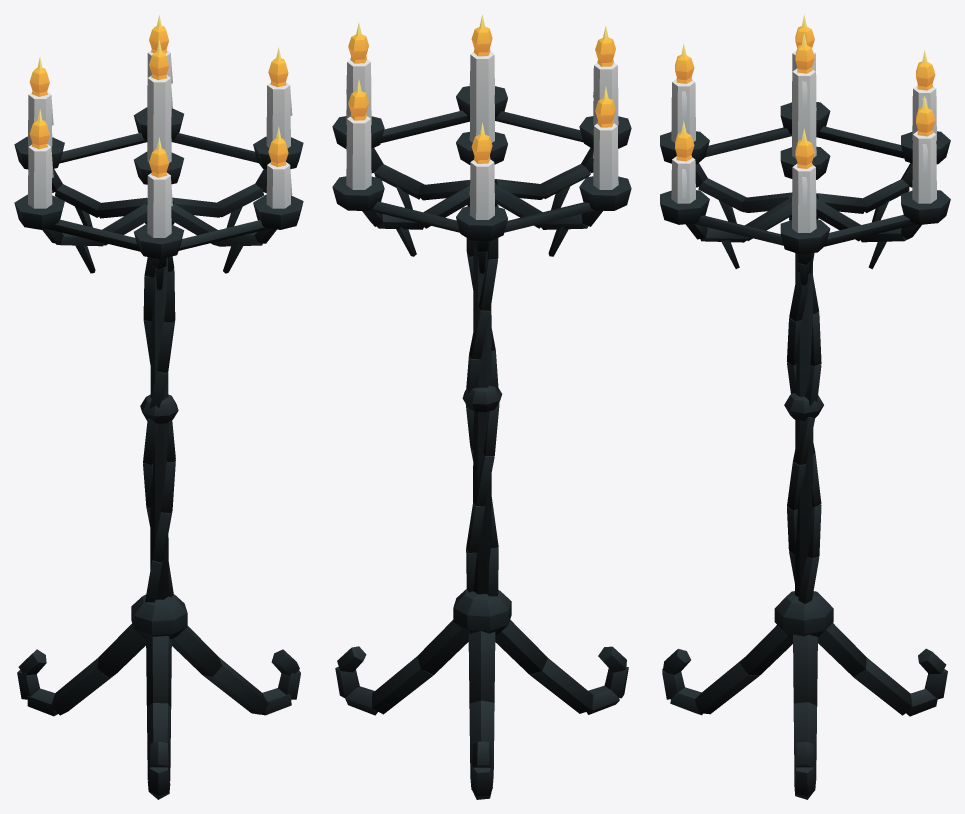
File: candle_stand.glb
The picture shows the model from 3 angles, left to right: view 1: azimuth 30°, elevation 25°; view 2: azimuth 150°, elevation 25°; view 3: azimuth 270°, elevation 25°; orthographic projection. The views are drawn at different scales.
Visible parts, largest first — view 1: candle_stand; view 2: candle_stand; view 3: candle_stand.
Part boxes in pixels (x1,y1,x2,y2): candle_stand: [14, 14, 303, 799]; candle_stand: [332, 14, 631, 799]; candle_stand: [660, 14, 950, 799].
Size of the model in its own units: 1.07 by 2.53 by 0.941.
Materials: 3 (3 with a texture image).
